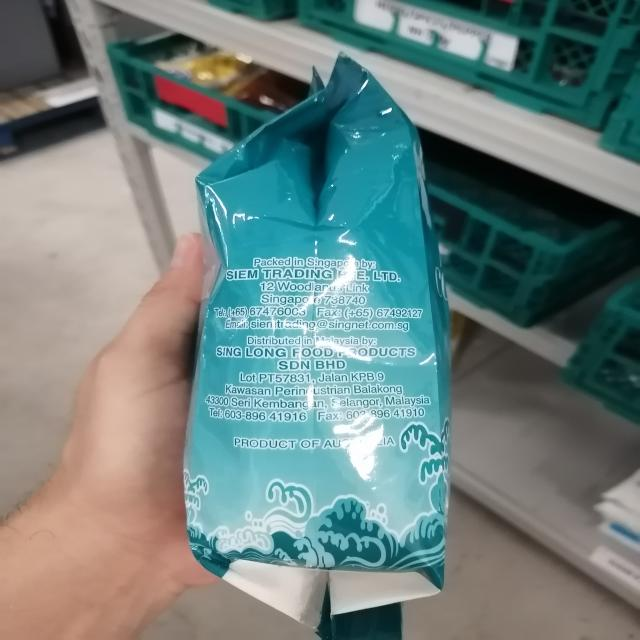object_name: (200, 109, 453, 604)
